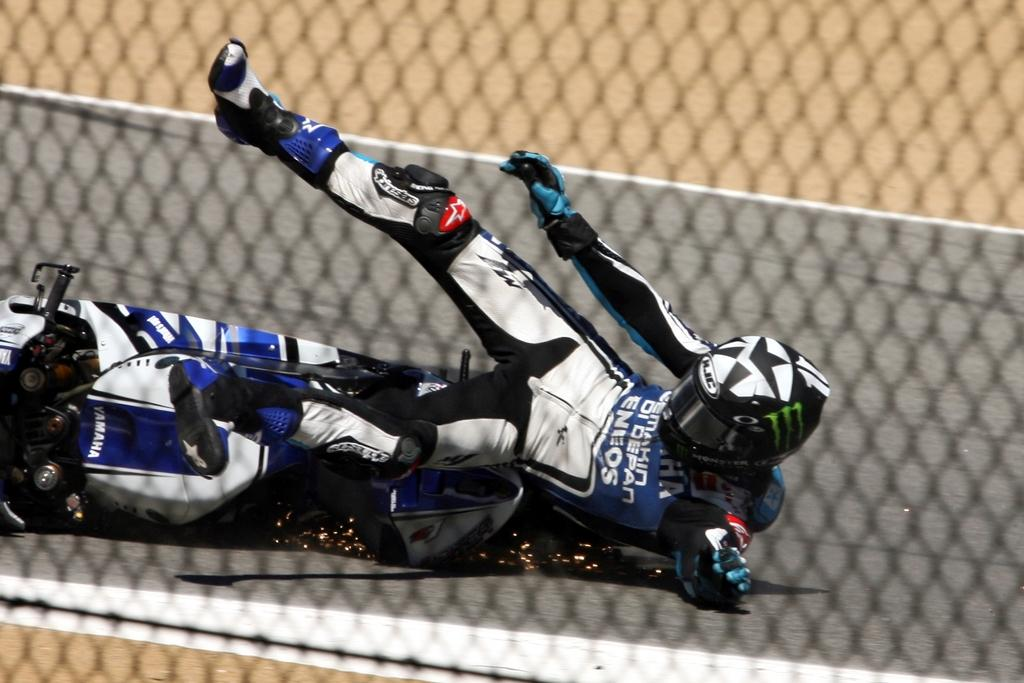Motorcycle: (0, 260, 523, 563)
